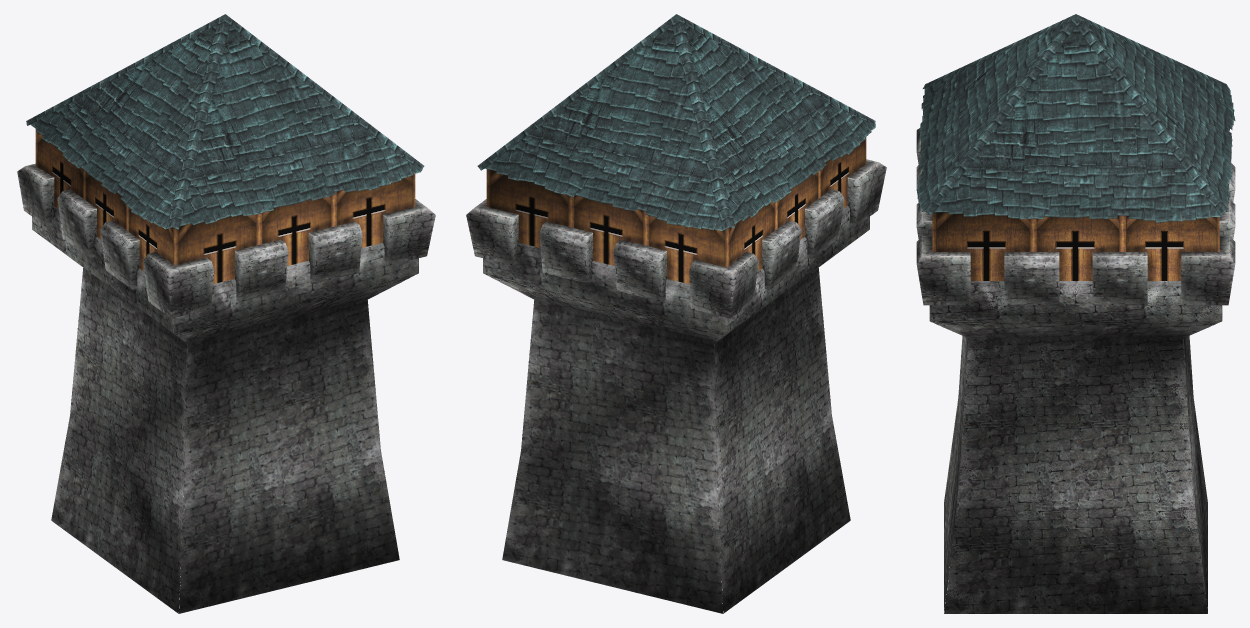
The model's file is tower.obj.
3 views of the same model, side by side, from view 1: azimuth 30°, elevation 25°; view 2: azimuth 150°, elevation 25°; view 3: azimuth 270°, elevation 25° (orthographic). The views are drawn at different scales.
Visible parts, largest first — view 1: tower_mesh; view 2: tower_mesh; view 3: tower_mesh.
Boxes of the visible parts, x1=… form: tower_mesh: x1=17, y1=14, x2=435, y2=613; tower_mesh: x1=466, y1=14, x2=886, y2=613; tower_mesh: x1=916, y1=14, x2=1235, y2=613.
Size of the model in its own units: 2.79 by 5.25 by 2.79.
Materials: 1 (1 with a texture image).
